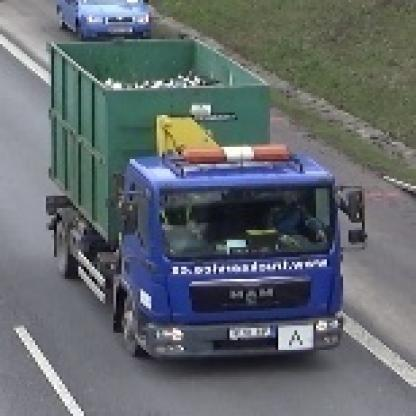truck: (42, 38, 369, 363)
